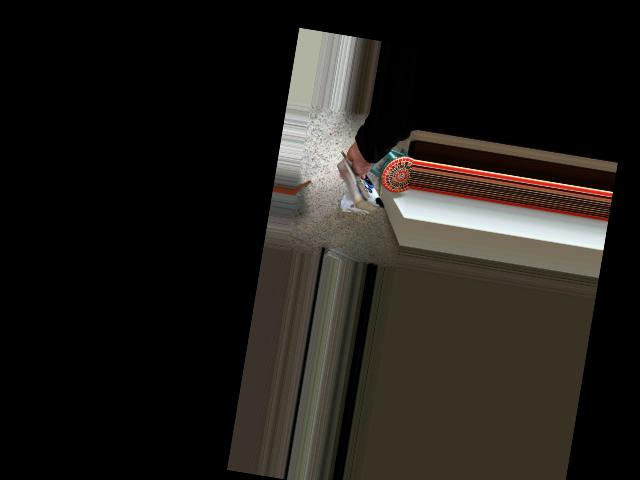cheese: (323, 140, 401, 224)
